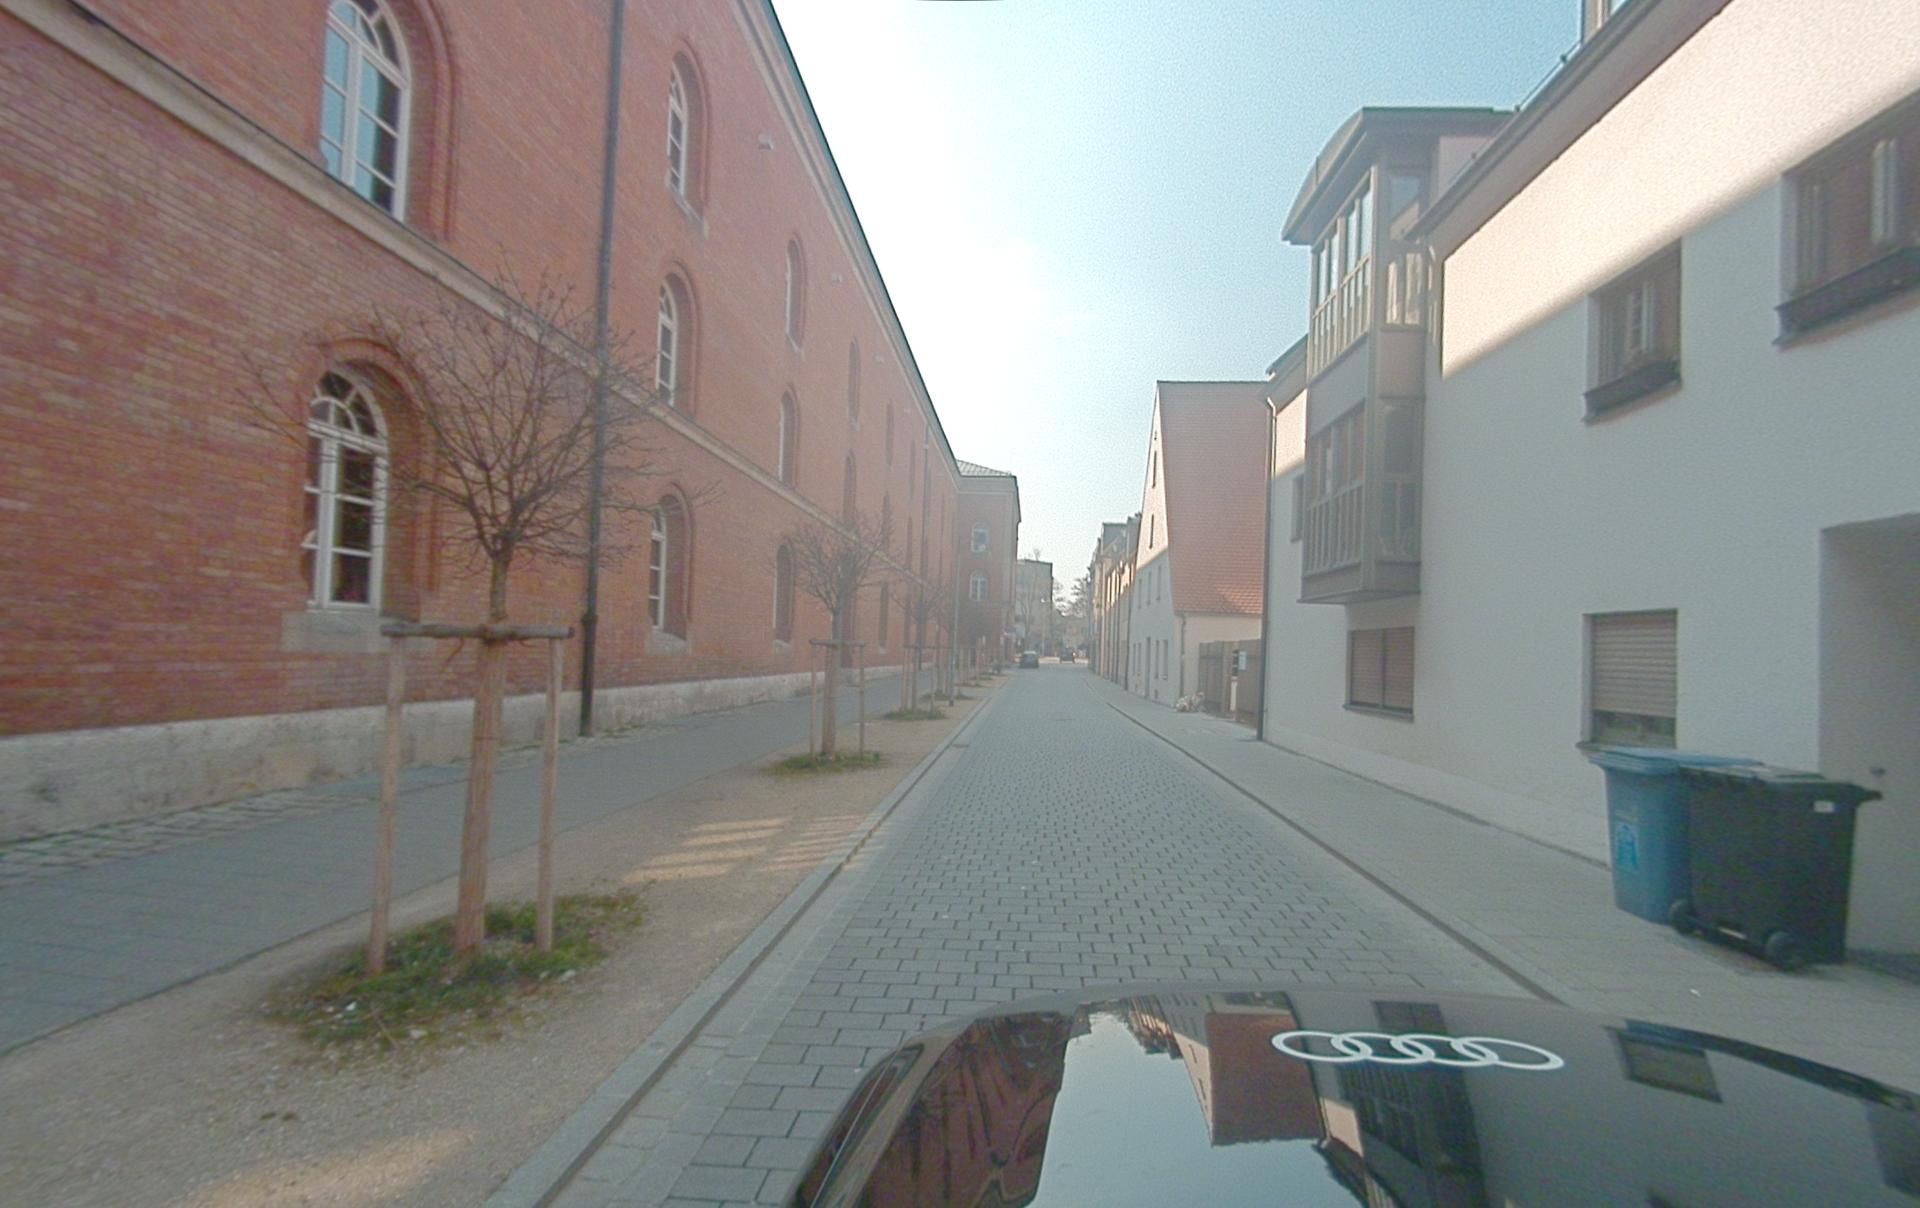car: (782, 984, 1919, 1207), (1018, 650, 1038, 668), (1059, 647, 1074, 662)
